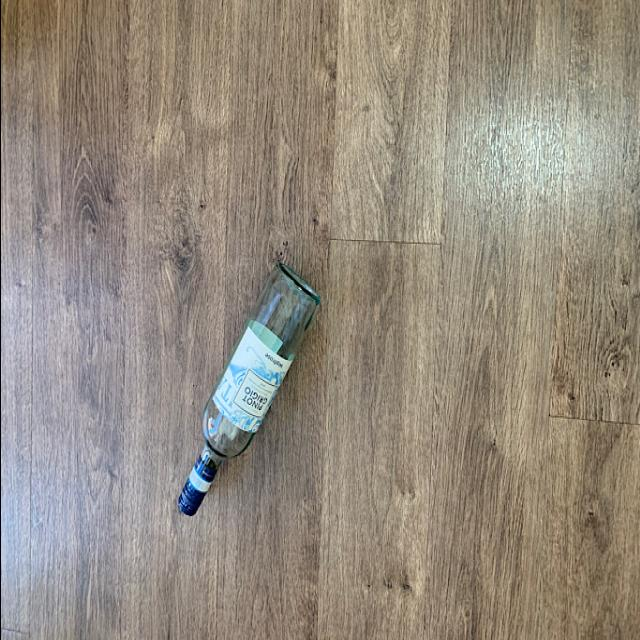litter: (174, 262, 320, 524)
